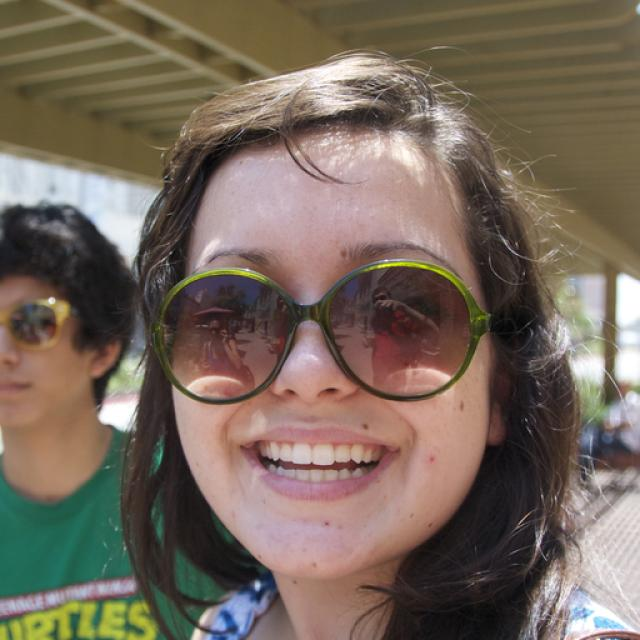Acne: (314, 516, 335, 533), (420, 449, 435, 466)
